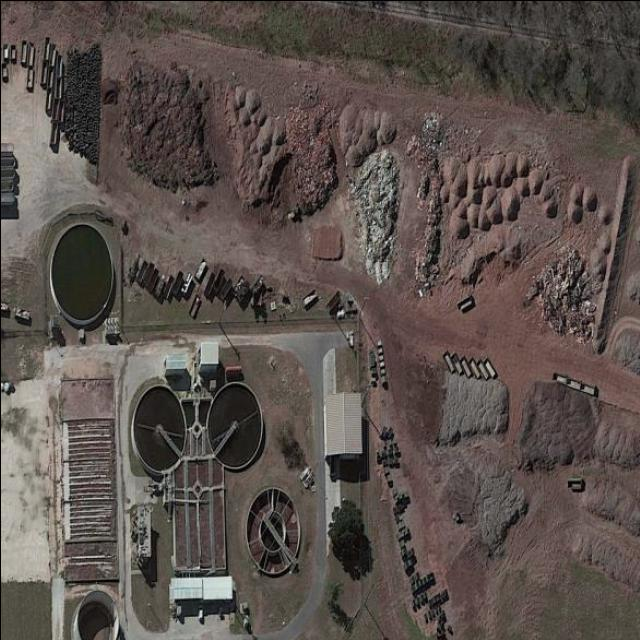dump_site: (344, 142, 411, 297), (524, 226, 607, 348)
